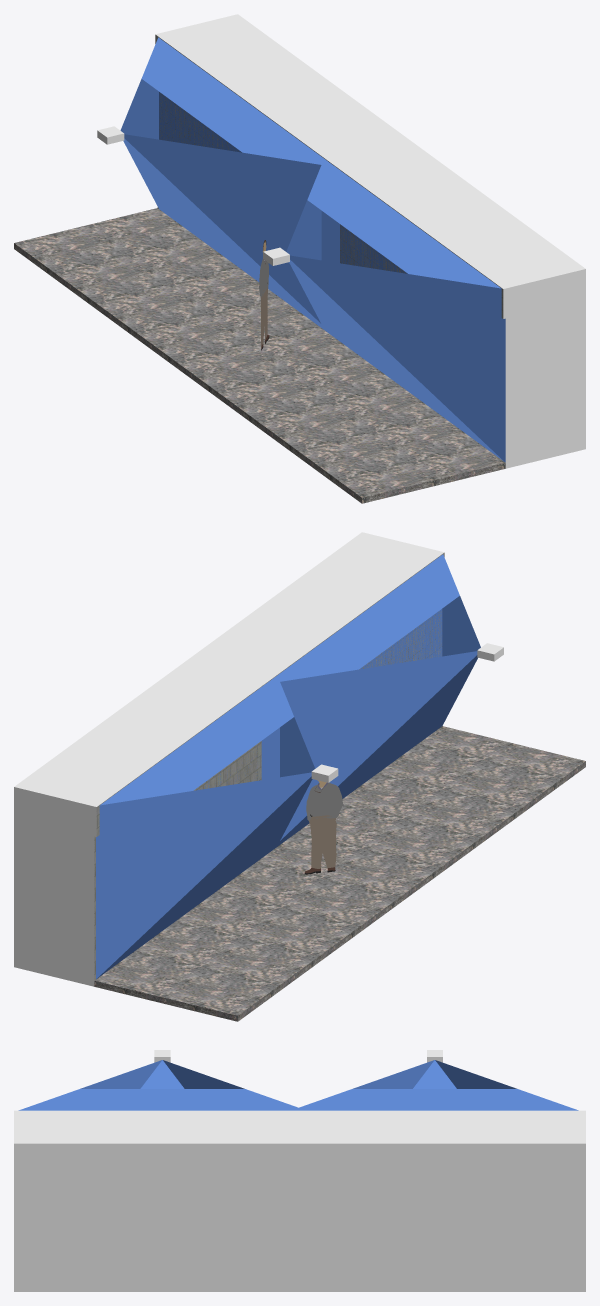
File: set4.obj
The picture shows the model from 3 angles, top to bottom: view 1: azimuth 30°, elevation 25°; view 2: azimuth 150°, elevation 25°; view 3: azimuth 270°, elevation 25°; orthographic projection. The views are drawn at different scales.
Parts seen in each view (by area): view 1: Mesh9 Componente_18_1 Componente_21_1 Model, Mesh13 Componente_19_1 Componente_21_1 Model, Mesh3 Componente_5_1 Group1 Componente_21_1 Model, Mesh7 Componente_5_2 Group2 Componente_21_1 Model, Mesh11 Derrick1 Componente_21_1 Model; view 2: Mesh9 Componente_18_1 Componente_21_1 Model, Mesh13 Componente_19_1 Componente_21_1 Model, Mesh7 Componente_5_2 Group2 Componente_21_1 Model, Mesh3 Componente_5_1 Group1 Componente_21_1 Model, Mesh11 Derrick1 Componente_21_1 Model; view 3: Mesh13 Componente_19_1 Componente_21_1 Model, Mesh7 Componente_5_2 Group2 Componente_21_1 Model, Mesh3 Componente_5_1 Group1 Componente_21_1 Model.
Part boxes in pixels (left/top/right/bottom): Mesh9 Componente_18_1 Componente_21_1 Model: left=14, top=208, right=505, bottom=503; Mesh13 Componente_19_1 Componente_21_1 Model: left=155, top=14, right=585, bottom=468; Mesh3 Componente_5_1 Group1 Componente_21_1 Model: left=286, top=159, right=505, bottom=462; Mesh7 Componente_5_2 Group2 Componente_21_1 Model: left=120, top=37, right=339, bottom=339; Mesh11 Derrick1 Componente_21_1 Model: left=259, top=240, right=269, bottom=350; Mesh9 Componente_18_1 Componente_21_1 Model: left=94, top=726, right=585, bottom=1021; Mesh13 Componente_19_1 Componente_21_1 Model: left=14, top=532, right=444, bottom=986; Mesh7 Componente_5_2 Group2 Componente_21_1 Model: left=96, top=675, right=315, bottom=979; Mesh3 Componente_5_1 Group1 Componente_21_1 Model: left=261, top=554, right=480, bottom=846; Mesh11 Derrick1 Componente_21_1 Model: left=304, top=780, right=342, bottom=874; Mesh13 Componente_19_1 Componente_21_1 Model: left=14, top=1110, right=585, bottom=1291; Mesh7 Componente_5_2 Group2 Componente_21_1 Model: left=291, top=1060, right=578, bottom=1110; Mesh3 Componente_5_1 Group1 Componente_21_1 Model: left=18, top=1060, right=306, bottom=1110.
Bounding box in the file's own units: 3963 × 3050 × 10500.
